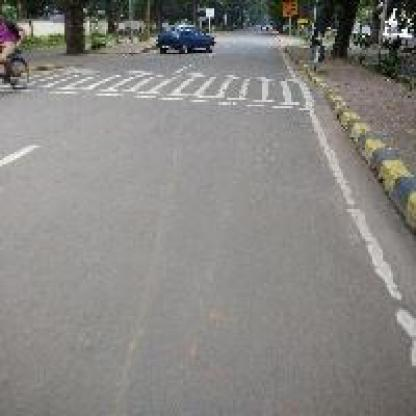Speed Bump: (42, 64, 308, 115)
